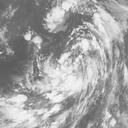cyclone: (33, 5, 122, 102)
